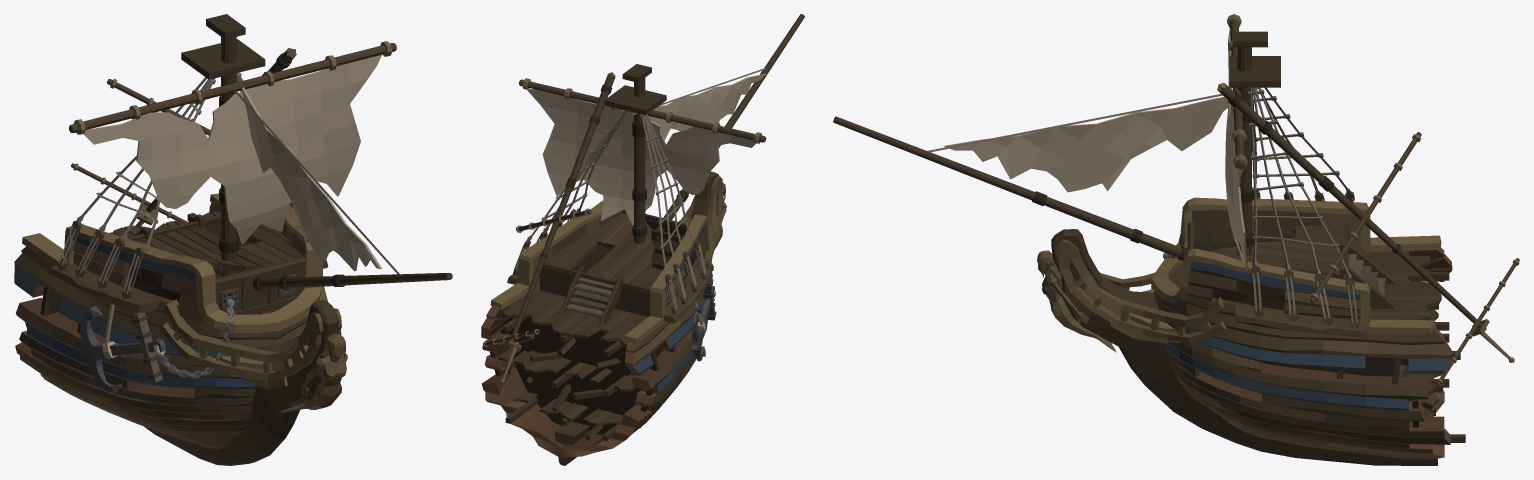
Rendered from SM_Prop_Shipwreck_03.glb.
The picture shows the model from 3 angles, left to right: view 1: azimuth 30°, elevation 25°; view 2: azimuth 150°, elevation 25°; view 3: azimuth 270°, elevation 25°; orthographic projection. The views are drawn at different scales.
Visible parts, largest first — view 1: SM_Prop_Shipwreck_03_Sails; view 2: SM_Prop_Shipwreck_03_Sails; view 3: SM_Prop_Shipwreck_03_Sails.
Boxes of the visible parts, x1,y1,x2,y2 form: SM_Prop_Shipwreck_03_Sails: [14, 14, 452, 465]; SM_Prop_Shipwreck_03_Sails: [481, 14, 804, 465]; SM_Prop_Shipwreck_03_Sails: [833, 14, 1519, 465].
Size of the model in its own units: 0.1203 by 0.1615 by 0.2346.
